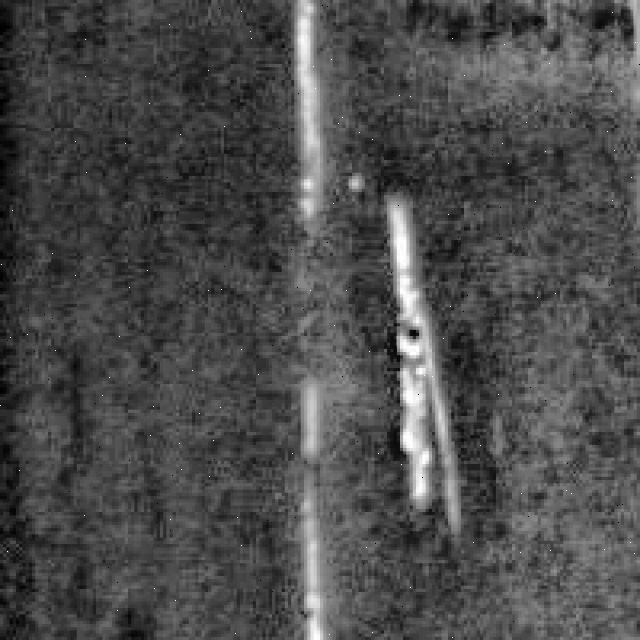Inclusion: (387, 192, 477, 502), (294, 378, 346, 634), (288, 0, 342, 221)
